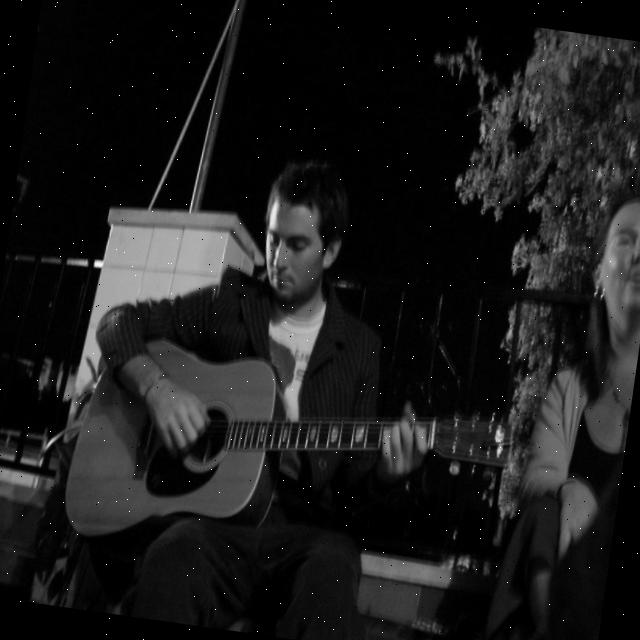guitar: (58, 326, 524, 602)
